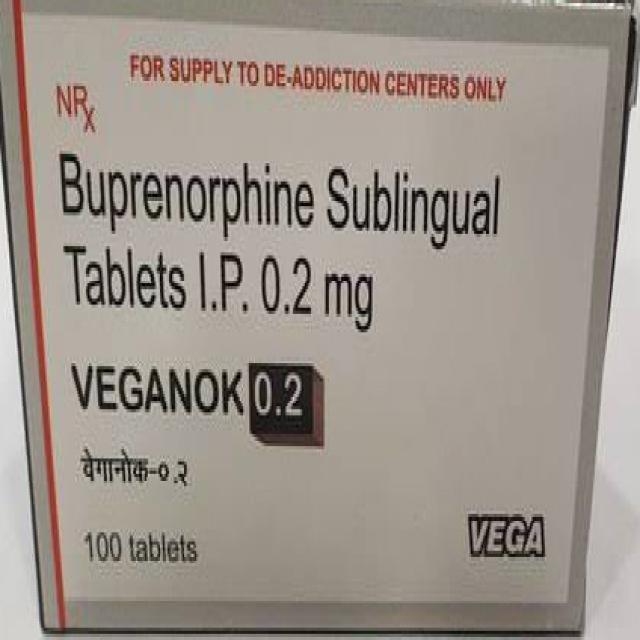drug-name: (67, 356, 308, 424)
